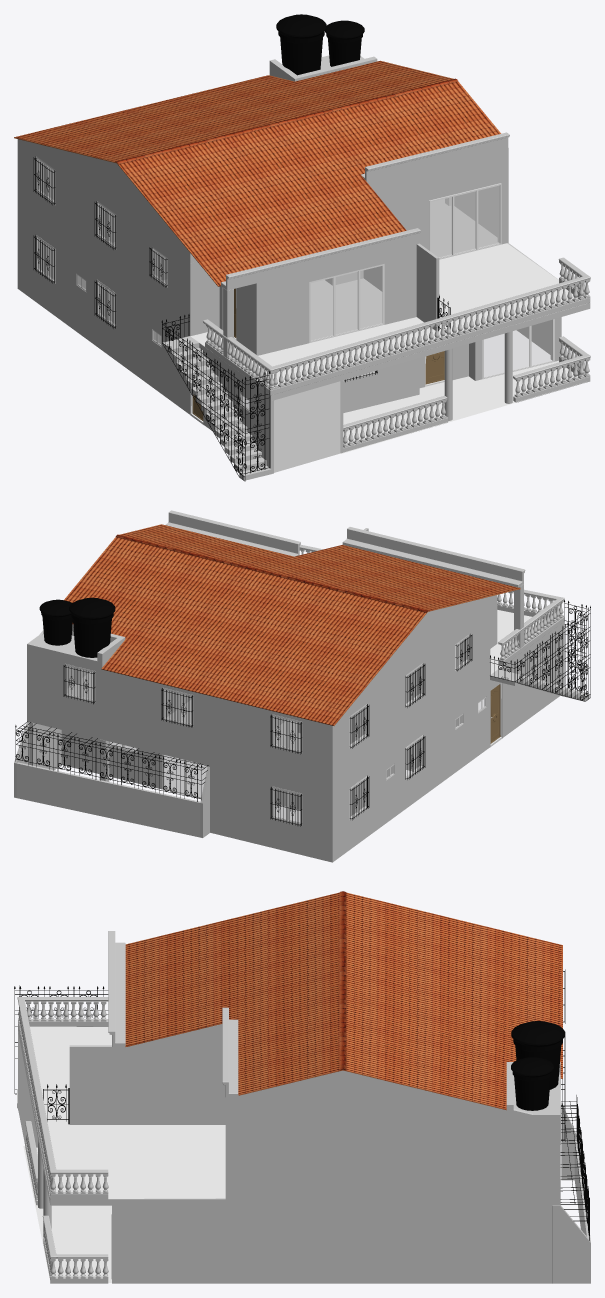
File: luxo.glb
3 views of the same model, one above another, from view 1: azimuth 30°, elevation 25°; view 2: azimuth 150°, elevation 25°; view 3: azimuth 270°, elevation 25° (orthographic). The views are drawn at different scales.
Parts seen in each view (by area): view 1: luxo; view 2: luxo; view 3: luxo.
Part boxes in pixels (<box>): luxo: <box>14,14,590,481</box>; luxo: <box>14,510,590,862</box>; luxo: <box>14,891,590,1283</box>.
Size of what is drawn, in the model's own units: 13.12 by 7.66 by 16.73.
Materials: 11 (1 with a texture image).
